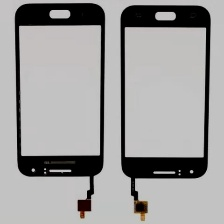phone: (6, 0, 113, 181), (116, 2, 214, 184)
